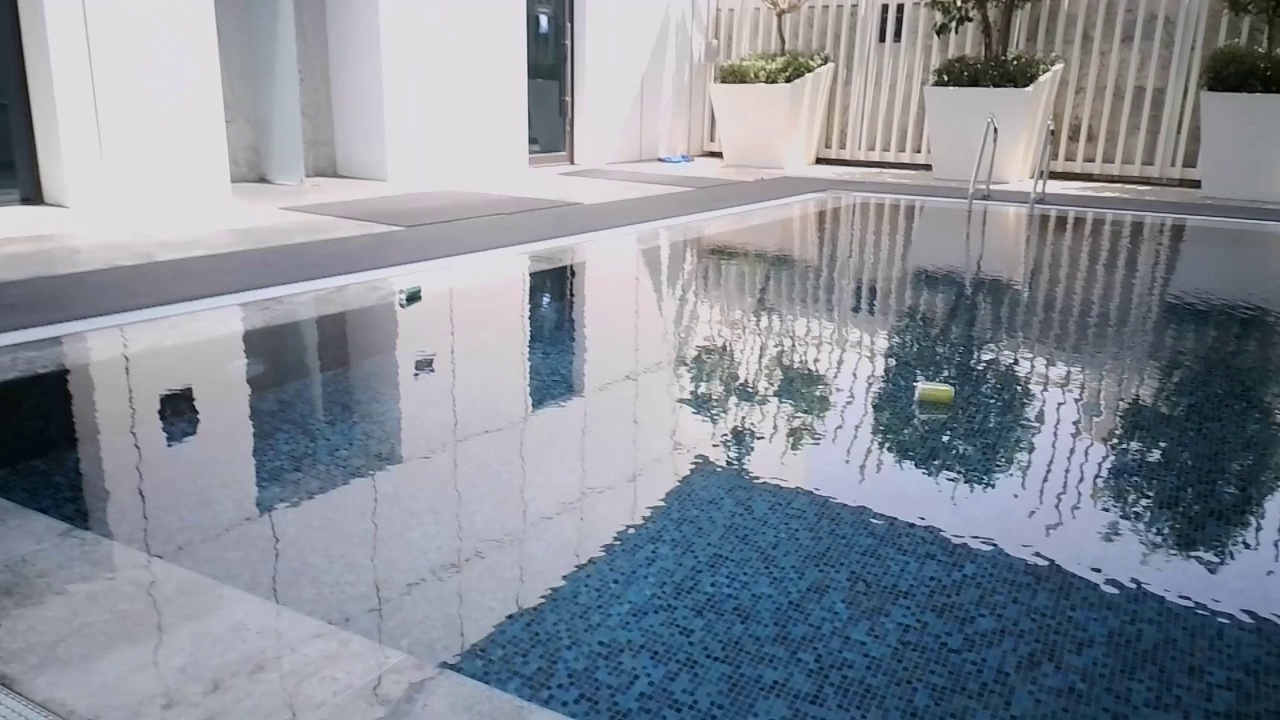debris: (911, 378, 958, 409)
